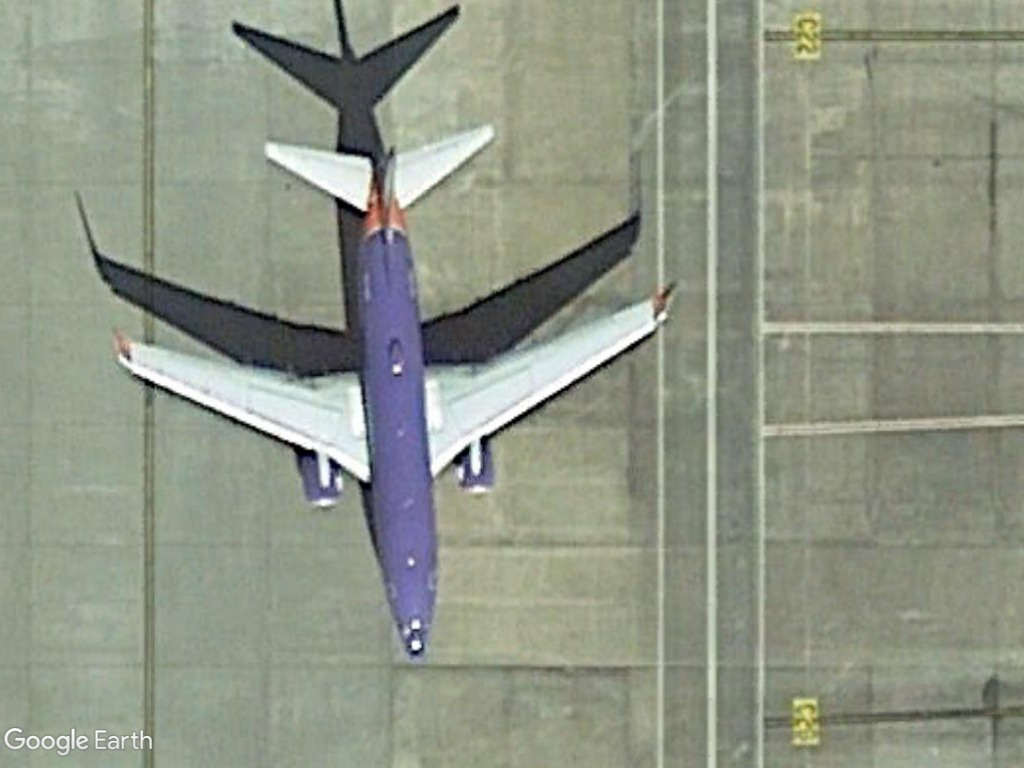airliner: (100, 114, 688, 670)
